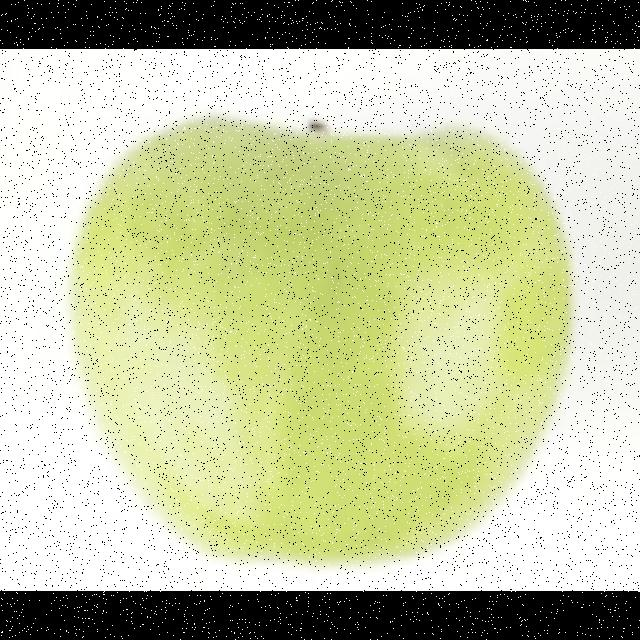Apel Segar: (69, 110, 565, 570)
